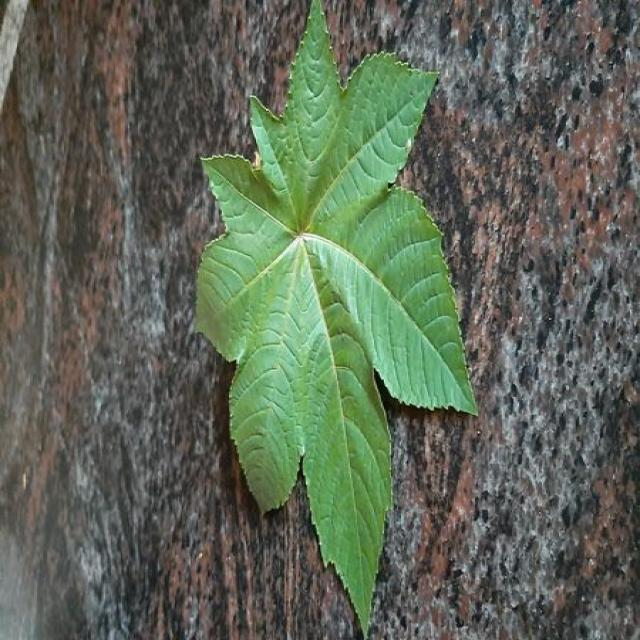castor: (197, 0, 477, 633)
